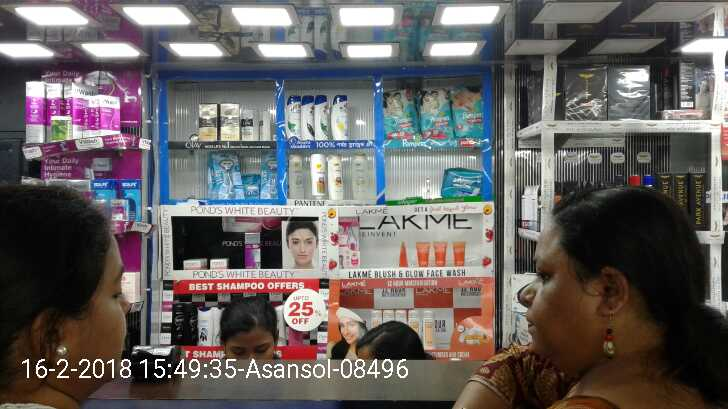venus: (210, 151, 245, 198), (261, 152, 275, 198)
